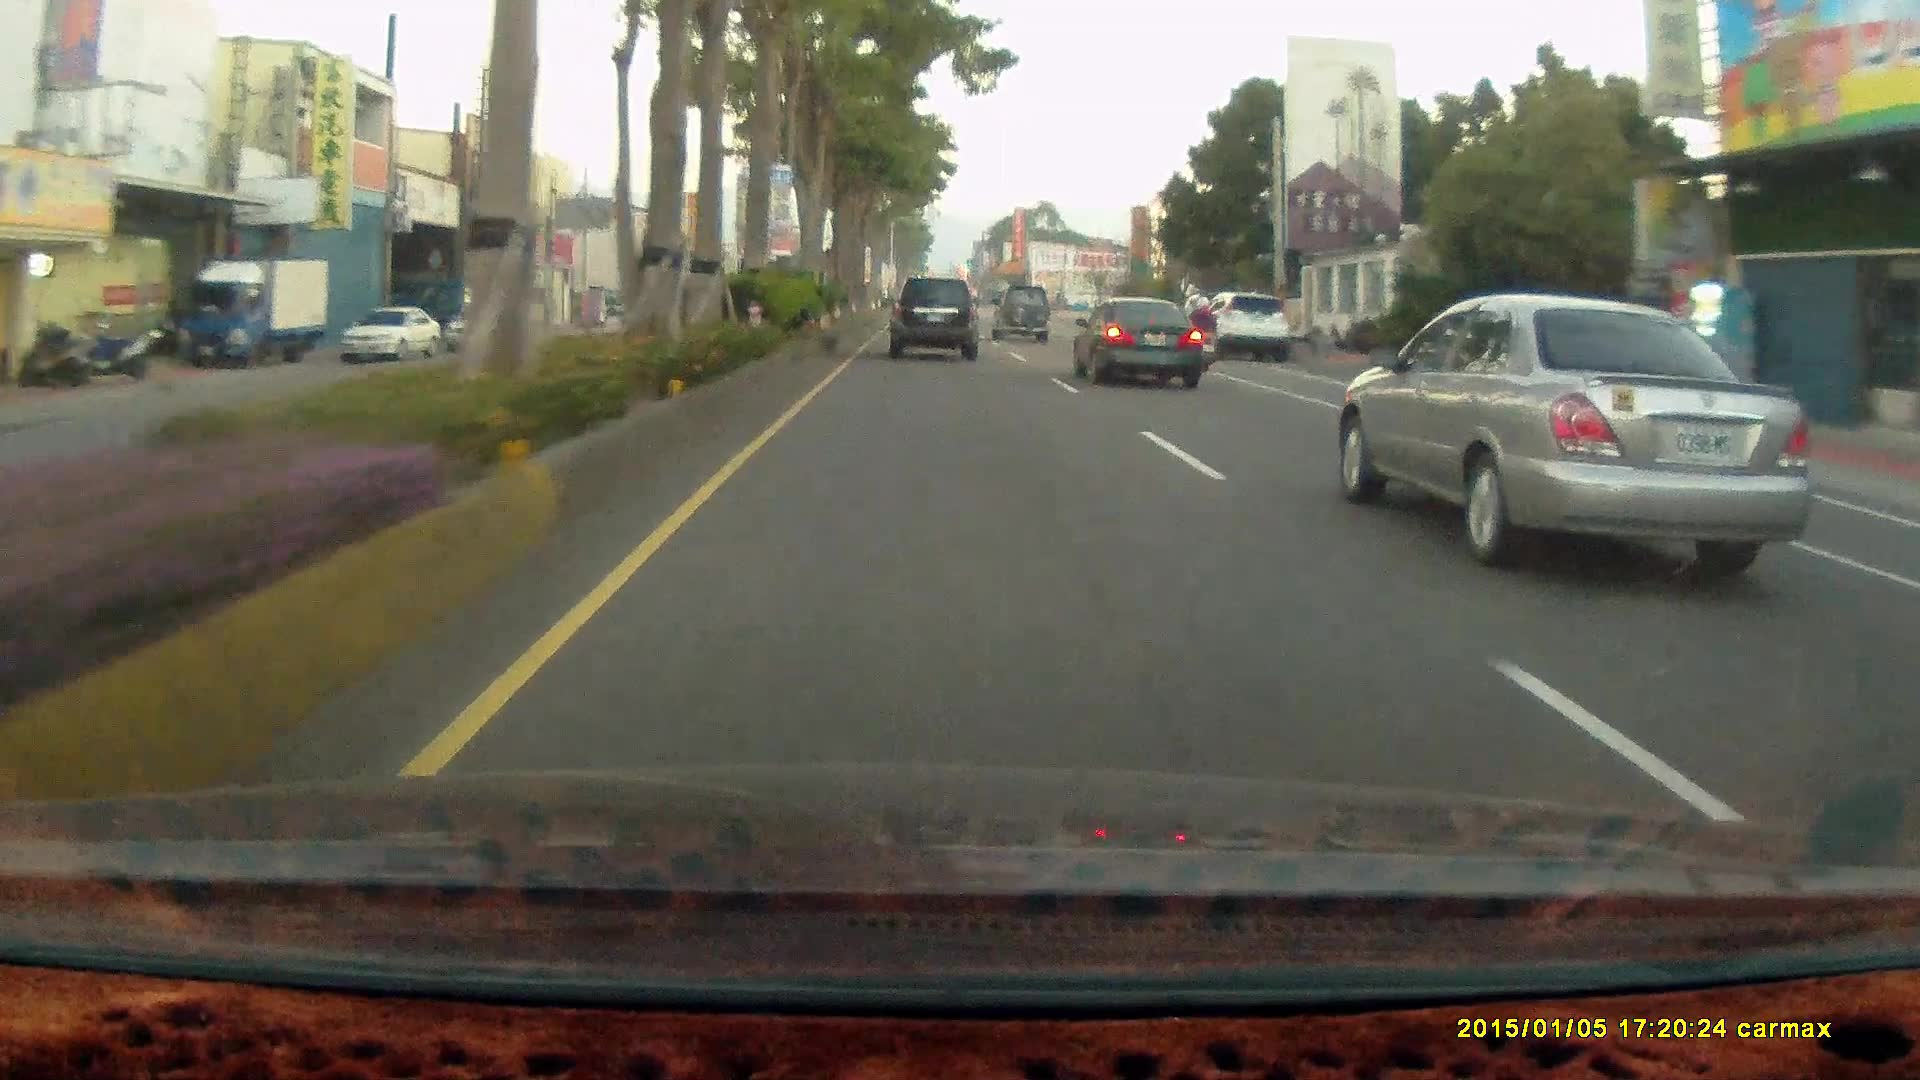rider: (1182, 295, 1221, 372)
vehicle: (1325, 297, 1808, 574), (174, 257, 333, 368), (175, 259, 334, 367), (1070, 301, 1210, 395), (1069, 295, 1204, 389), (885, 275, 982, 364), (886, 275, 976, 360), (1191, 294, 1292, 362), (340, 305, 441, 361), (344, 311, 439, 369), (1210, 295, 1291, 362), (990, 286, 1052, 348), (989, 284, 1051, 345), (450, 307, 531, 354)
